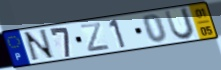0: (142, 13, 170, 45)
1: (108, 18, 128, 50)
7: (48, 27, 71, 59)
N: (22, 28, 57, 63)
U: (163, 6, 197, 42)
Z: (79, 21, 113, 53)
